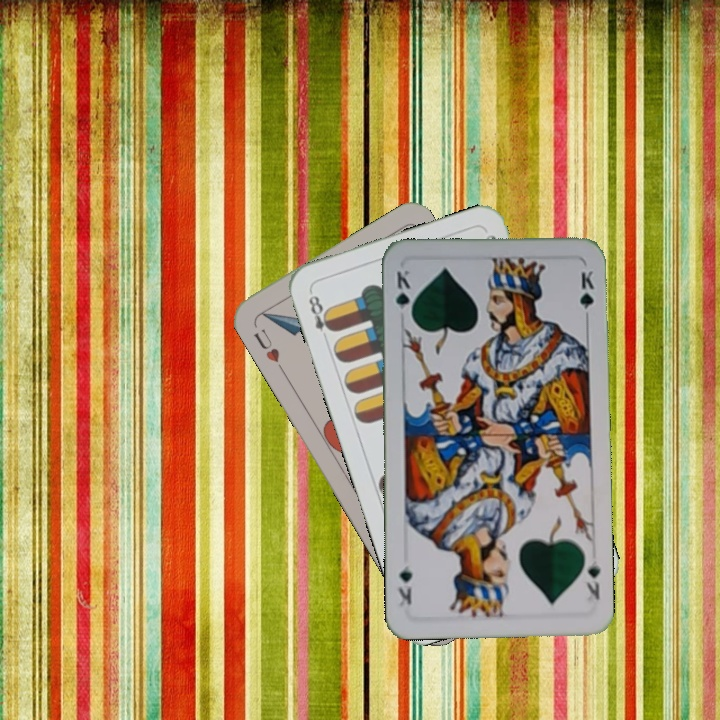E8: (304, 287, 337, 345)
GK: (391, 266, 414, 323), (583, 557, 603, 603)
HU: (249, 324, 282, 365)
